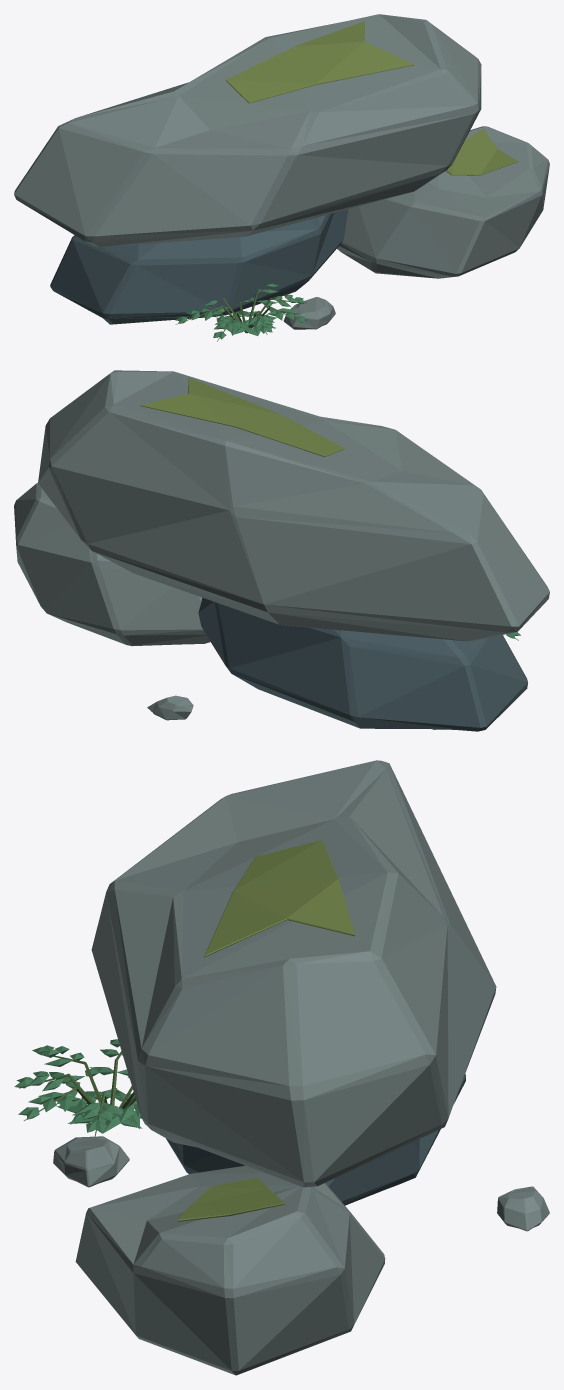
File: rock_ledge.glb
3 views of the same model, one above another, from view 1: azimuth 30°, elevation 25°; view 2: azimuth 150°, elevation 25°; view 3: azimuth 270°, elevation 25° (orthographic). The views are drawn at different scales.
Visible parts, largest first — view 1: rock_ledge; view 2: rock_ledge; view 3: rock_ledge.
Boxes of the visible parts, x1,y1,x2,y2 form: rock_ledge: (14, 14, 549, 341); rock_ledge: (14, 370, 549, 731); rock_ledge: (14, 760, 549, 1375).
Bounding box in the file's own units: 3.95 × 1.68 × 2.3.
